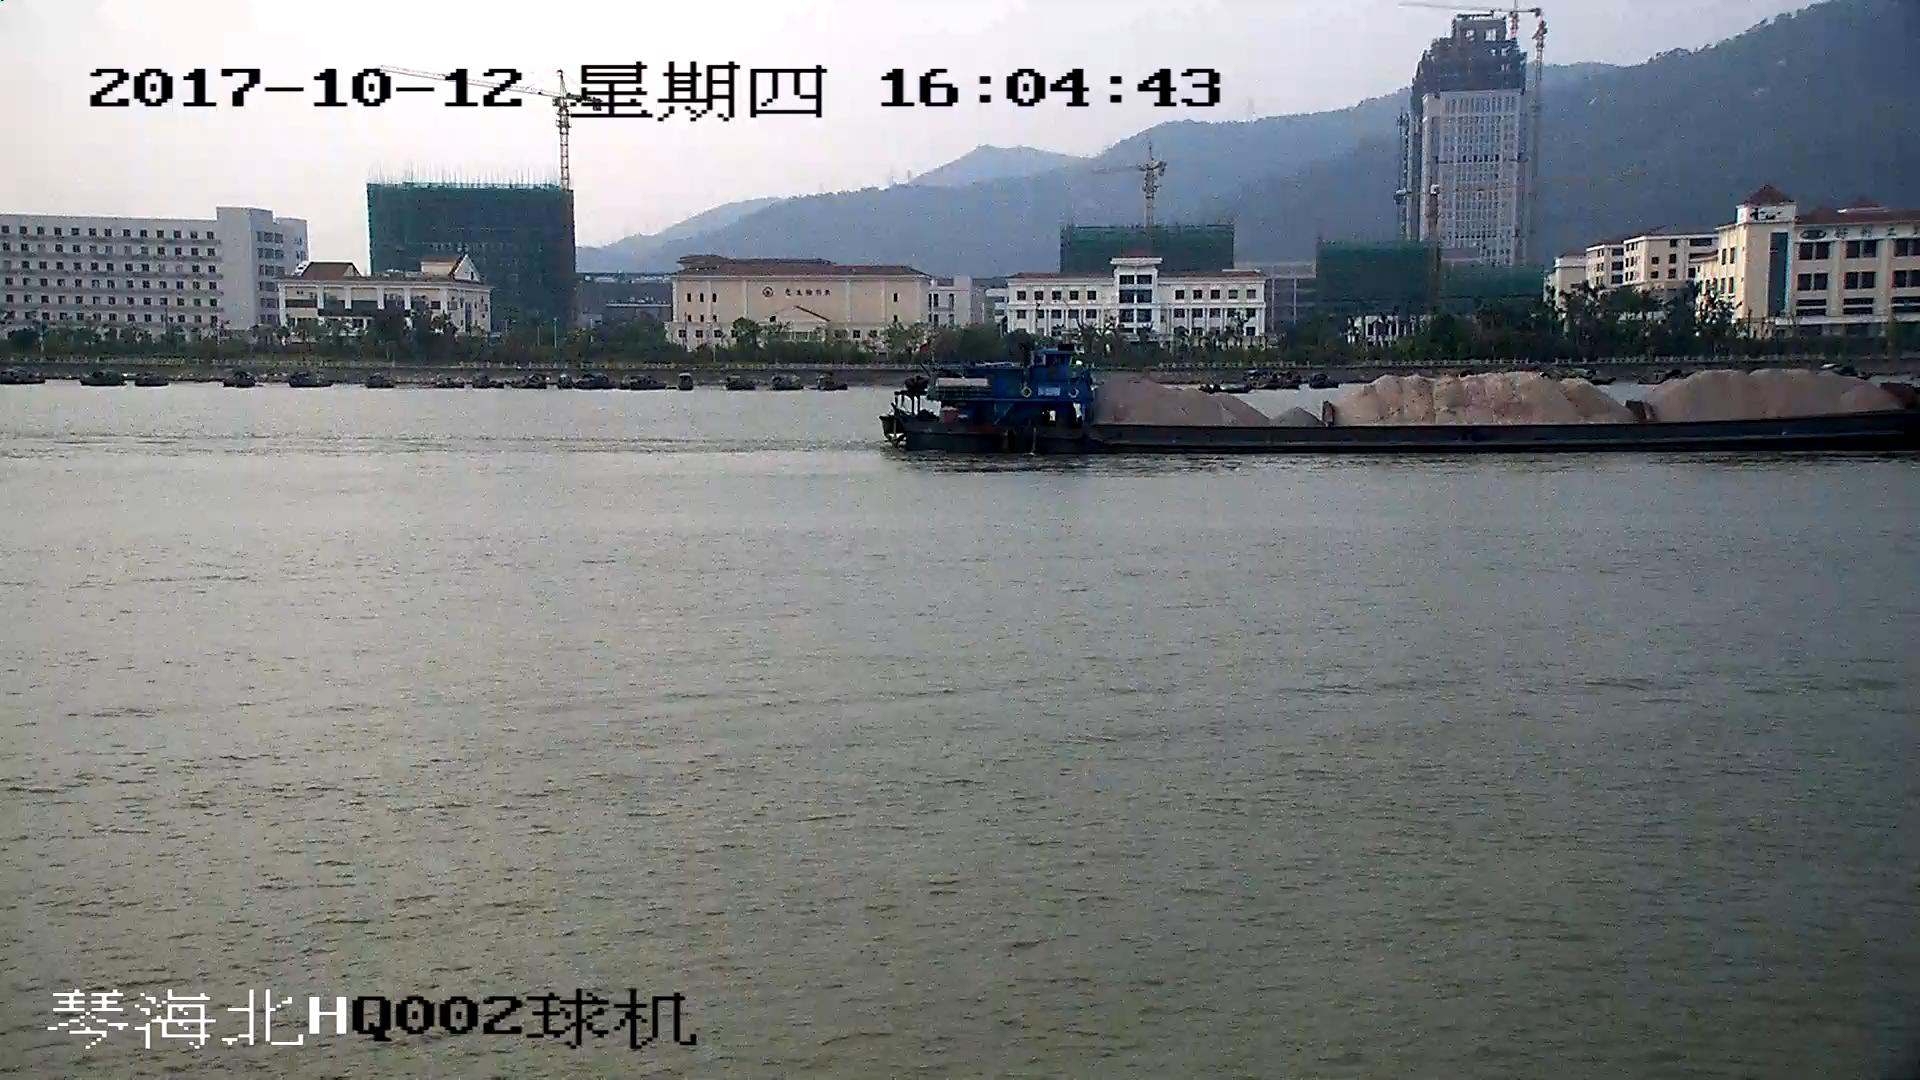ore carrier: (887, 343, 1920, 457)
